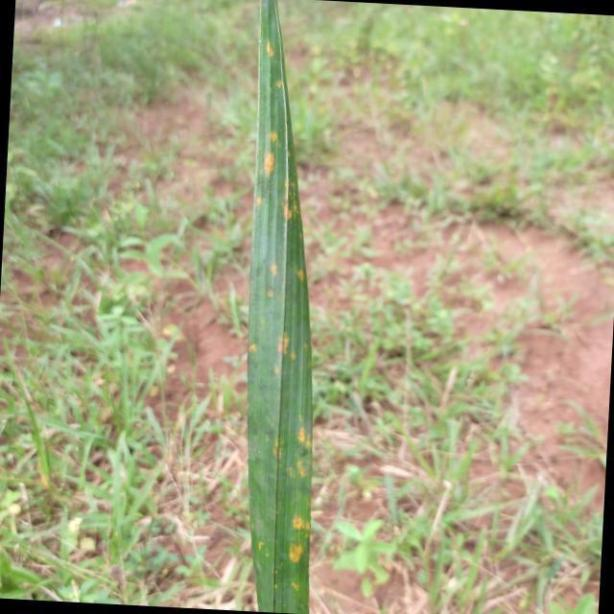Kalium: (249, 0, 316, 614)
